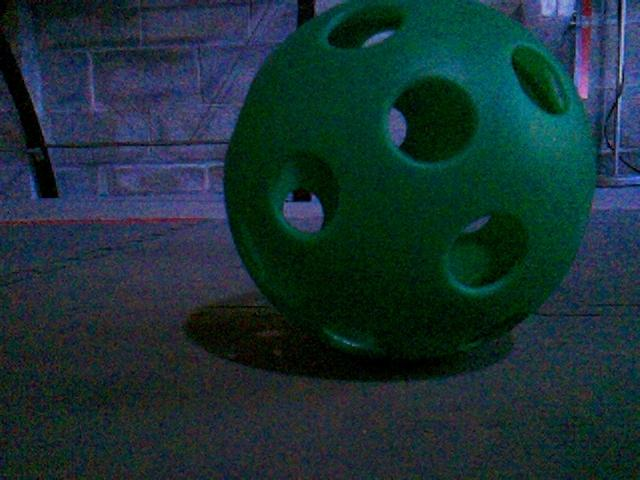Green: (222, 3, 594, 359)
